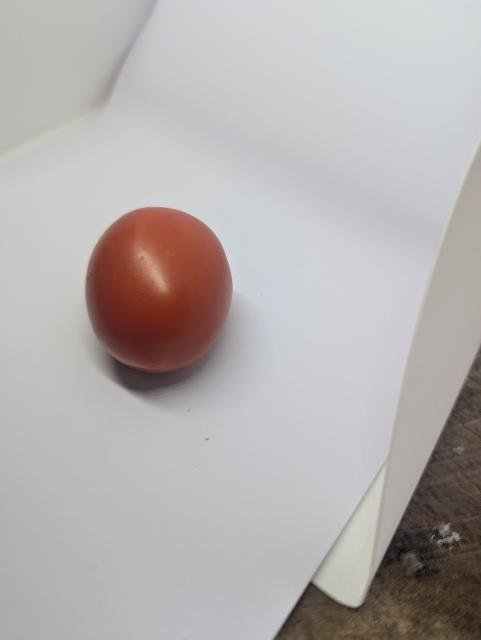red: (76, 209, 248, 377)
